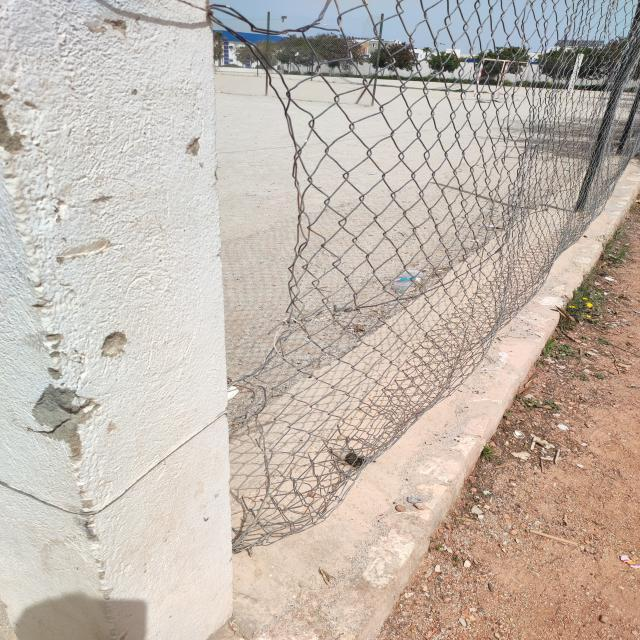fence line: (213, 33, 309, 372)
